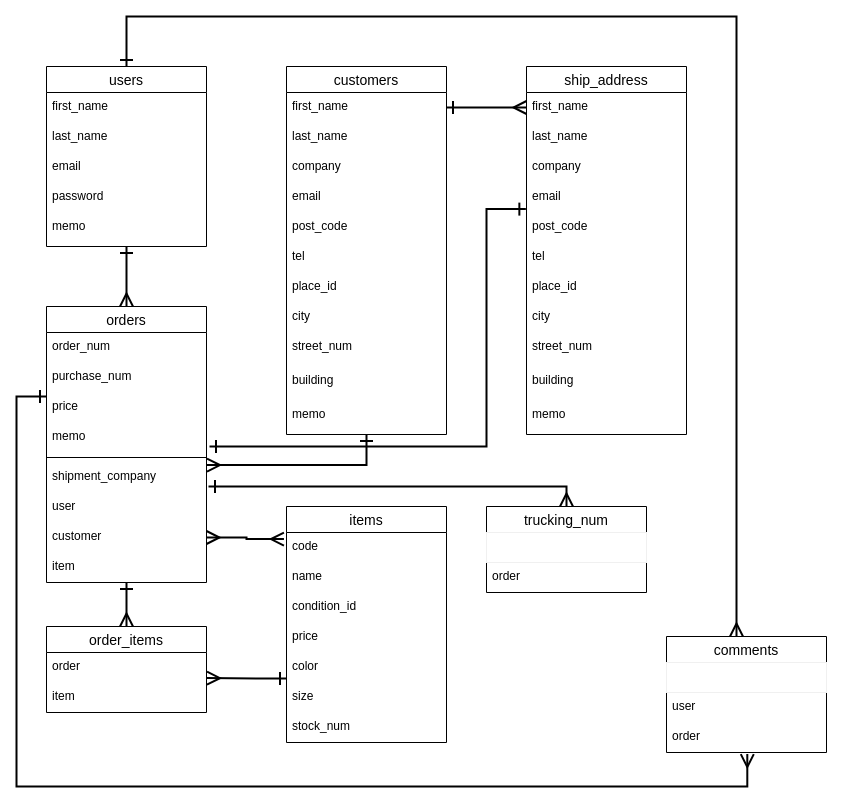
The diagram is 843 pixels wide and 803 high, and some of its shapes have lost their labels. The shapes that lost their labels are listed below. From the top down, each one's centre as x and y in pixels, then its label:
At point (566, 547): "num".
At point (746, 677): "text".
